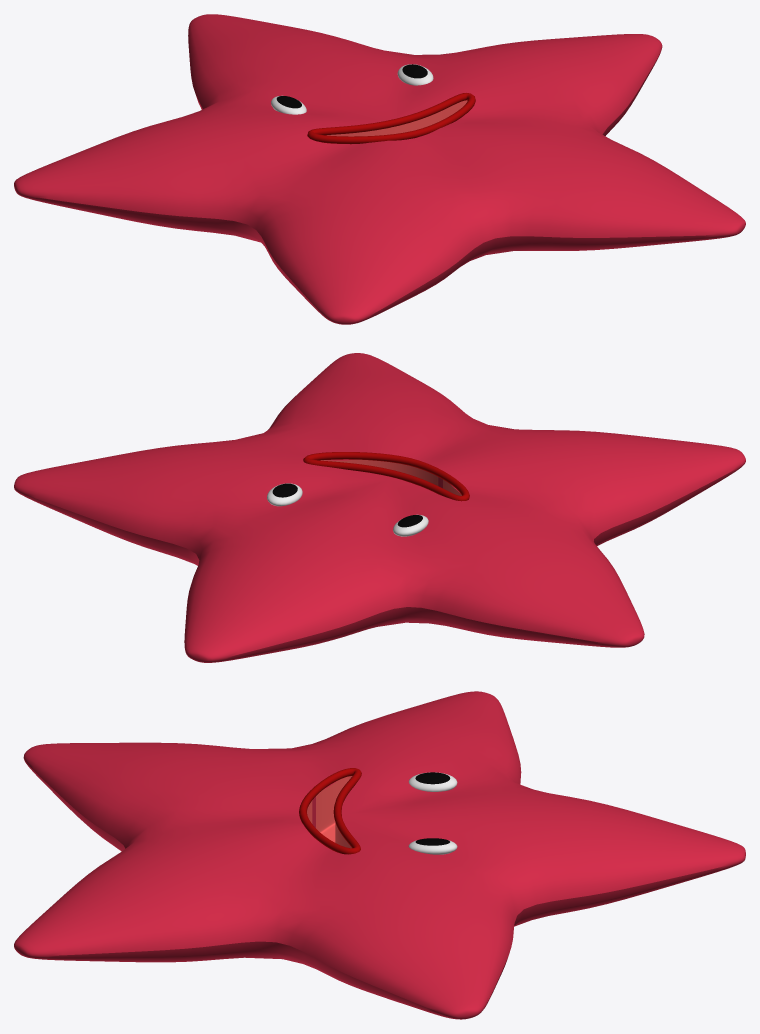
The model's file is seastar.glb.
The picture shows the model from 3 angles, top to bottom: view 1: azimuth 30°, elevation 25°; view 2: azimuth 150°, elevation 25°; view 3: azimuth 270°, elevation 25°; orthographic projection. The views are drawn at different scales.
Parts seen in each view (by area): view 1: Cylinder.001, BezierCircle, Sphere; view 2: Cylinder.001, BezierCircle, Sphere; view 3: Cylinder.001, BezierCircle, Sphere.
Boxes of the visible parts, x1,y1,x2,y2 form: Cylinder.001: [14, 14, 745, 324]; BezierCircle: [307, 93, 475, 144]; Sphere: [271, 64, 433, 114]; Cylinder.001: [14, 353, 745, 662]; BezierCircle: [303, 452, 469, 501]; Sphere: [267, 483, 428, 536]; Cylinder.001: [14, 691, 745, 1019]; BezierCircle: [299, 768, 361, 854]; Sphere: [408, 772, 457, 854].
Size of the model in its own units: 0.9609 by 0.1259 by 0.9248.
